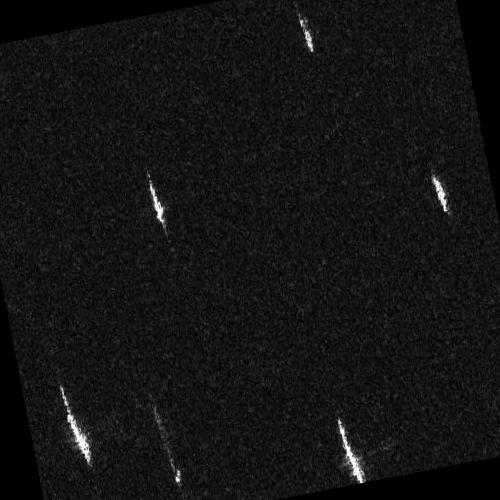ship: (58, 385, 93, 466), (154, 407, 182, 485), (337, 416, 366, 482), (149, 178, 167, 230), (431, 173, 450, 216), (299, 15, 315, 53)
